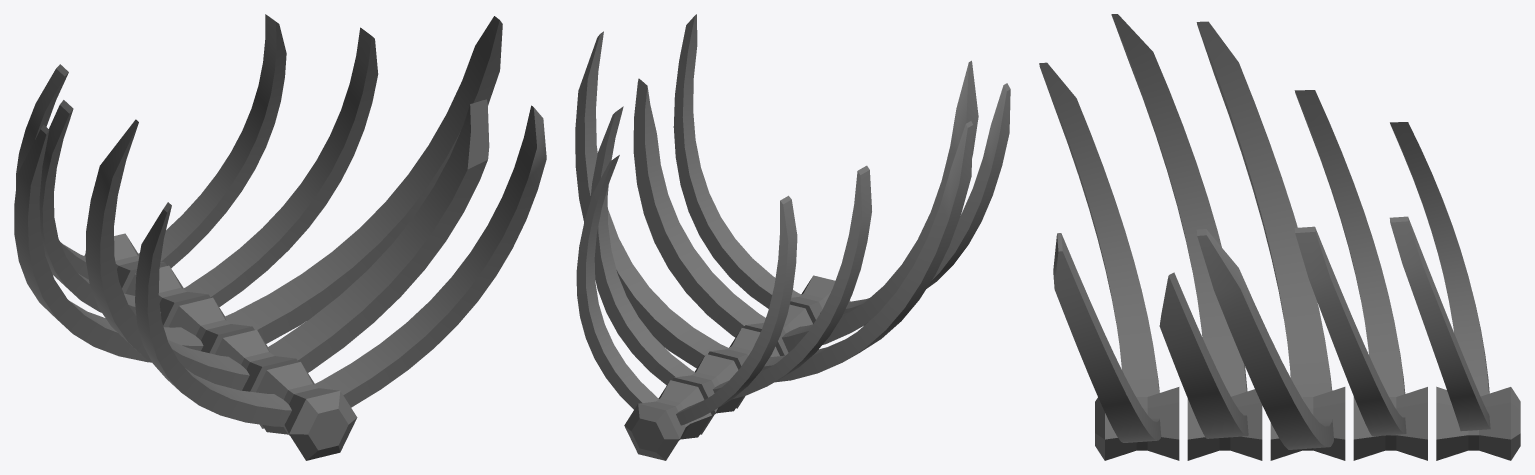
File: SM_ribs.fbx
The picture shows the model from 3 angles, left to right: view 1: azimuth 30°, elevation 25°; view 2: azimuth 150°, elevation 25°; view 3: azimuth 270°, elevation 25°; orthographic projection. The views are drawn at different scales.
Parts seen in each view (by area): view 1: SM_ribs; view 2: SM_ribs; view 3: SM_ribs.
Part boxes in pixels (x1,y1,x2,y2): SM_ribs: (14, 14, 546, 460); SM_ribs: (575, 14, 1010, 460); SM_ribs: (1039, 14, 1520, 460).
Bounding box in the file's own units: 168 × 129 × 158.
Materials: 1 (1 with a texture image).
